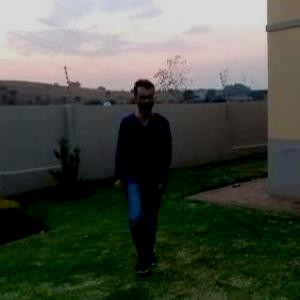follow: (114, 74, 181, 278)
